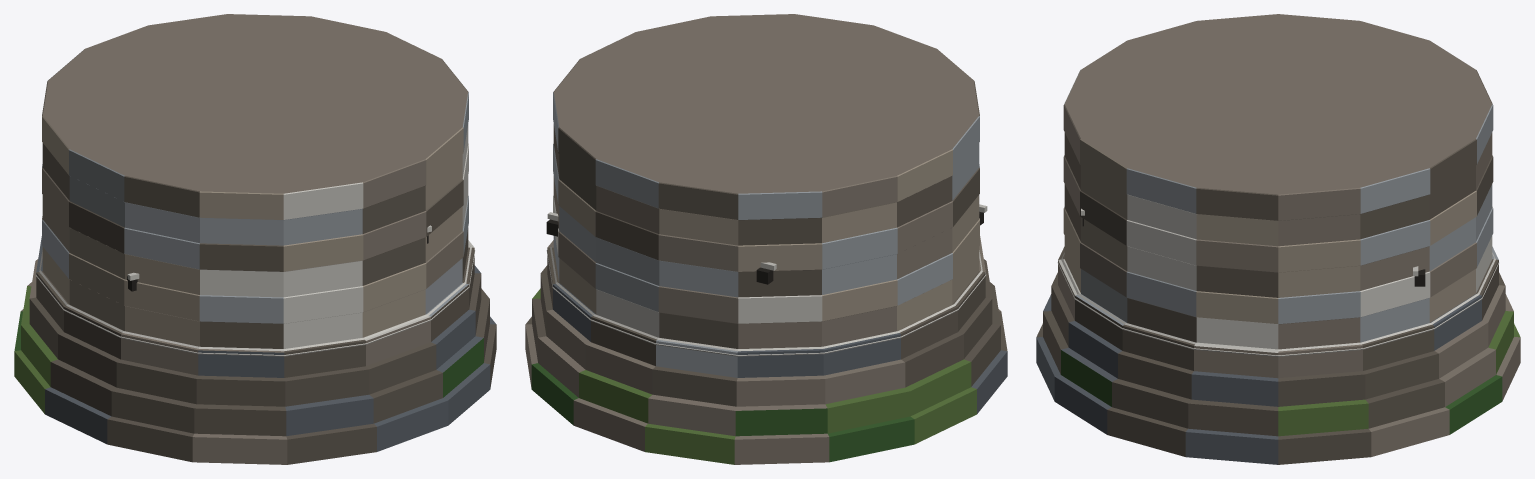
The model's file is mdvl_castle_tower_round_base_01.glb.
The picture shows the model from 3 angles, left to right: view 1: azimuth 30°, elevation 25°; view 2: azimuth 150°, elevation 25°; view 3: azimuth 270°, elevation 25°; orthographic projection.
Visible parts, largest first — view 1: mdvl_castle_tower_round_base_01; view 2: mdvl_castle_tower_round_base_01; view 3: mdvl_castle_tower_round_base_01.
Part boxes in pixels (x1=…): mdvl_castle_tower_round_base_01: x1=14, y1=14, x2=496, y2=464; mdvl_castle_tower_round_base_01: x1=525, y1=14, x2=1007, y2=464; mdvl_castle_tower_round_base_01: x1=1036, y1=14, x2=1520, y2=464.
Bounding box in the file's own units: 4.08 × 2.4 × 4.08.
Materials: 1 (1 with a texture image).
